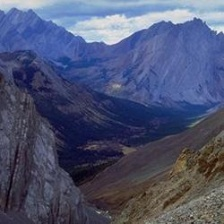neutral: (2, 2, 224, 212)
